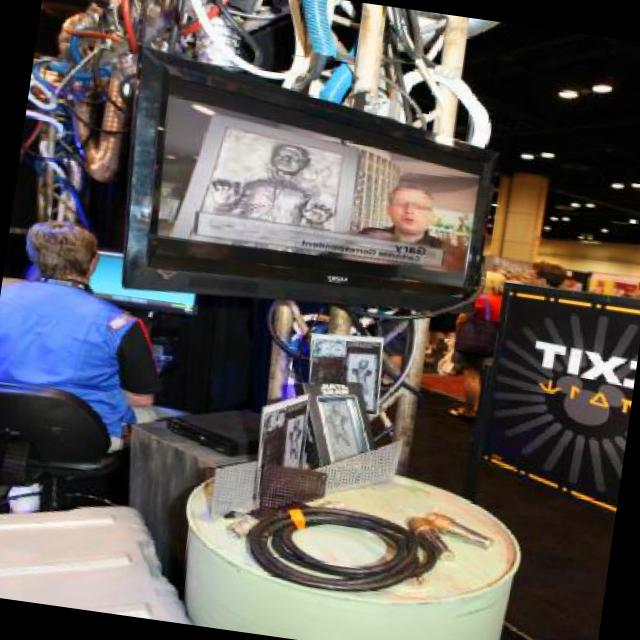Person: (0, 198, 186, 528), (320, 172, 463, 272)
